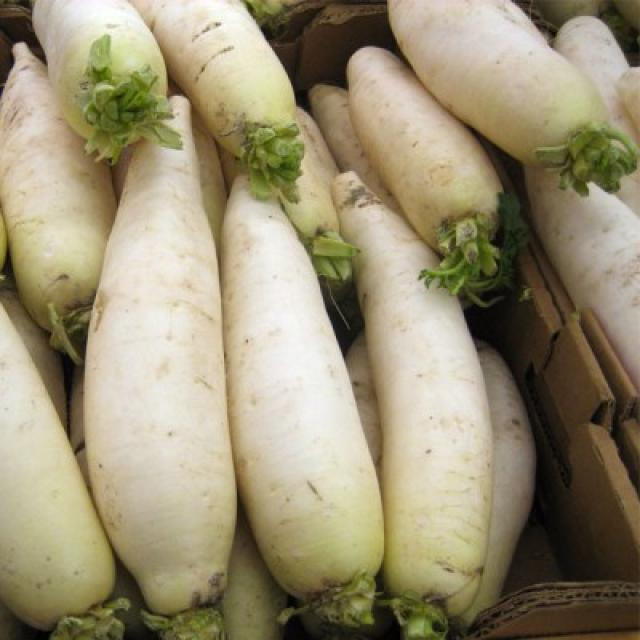Radish: (84, 96, 236, 639), (221, 175, 384, 638), (332, 171, 492, 640), (389, 0, 638, 194), (348, 48, 525, 306), (0, 306, 124, 640), (0, 44, 116, 362), (133, 0, 304, 202)
